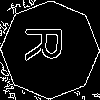R: (25, 25, 72, 62)
